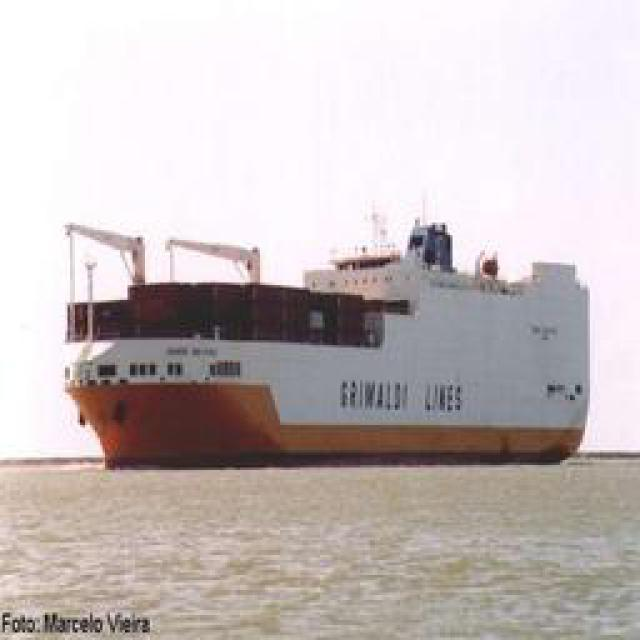Ship: (57, 197, 597, 476)
